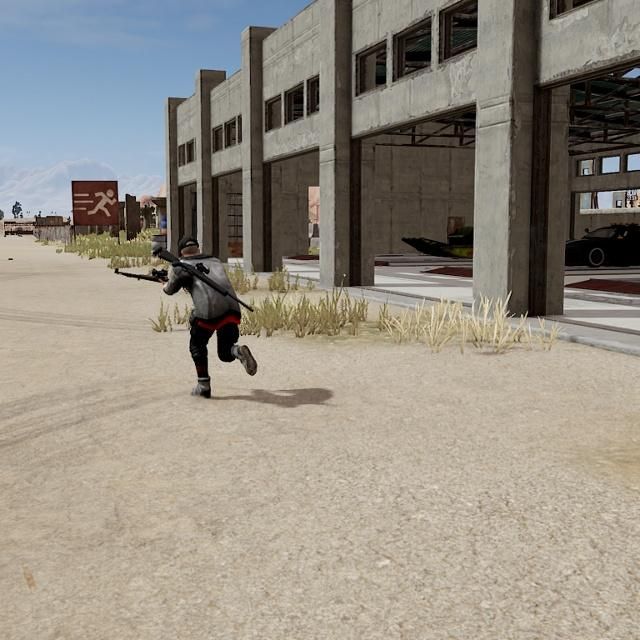head: (178, 232, 202, 261)
people: (163, 232, 259, 402)
